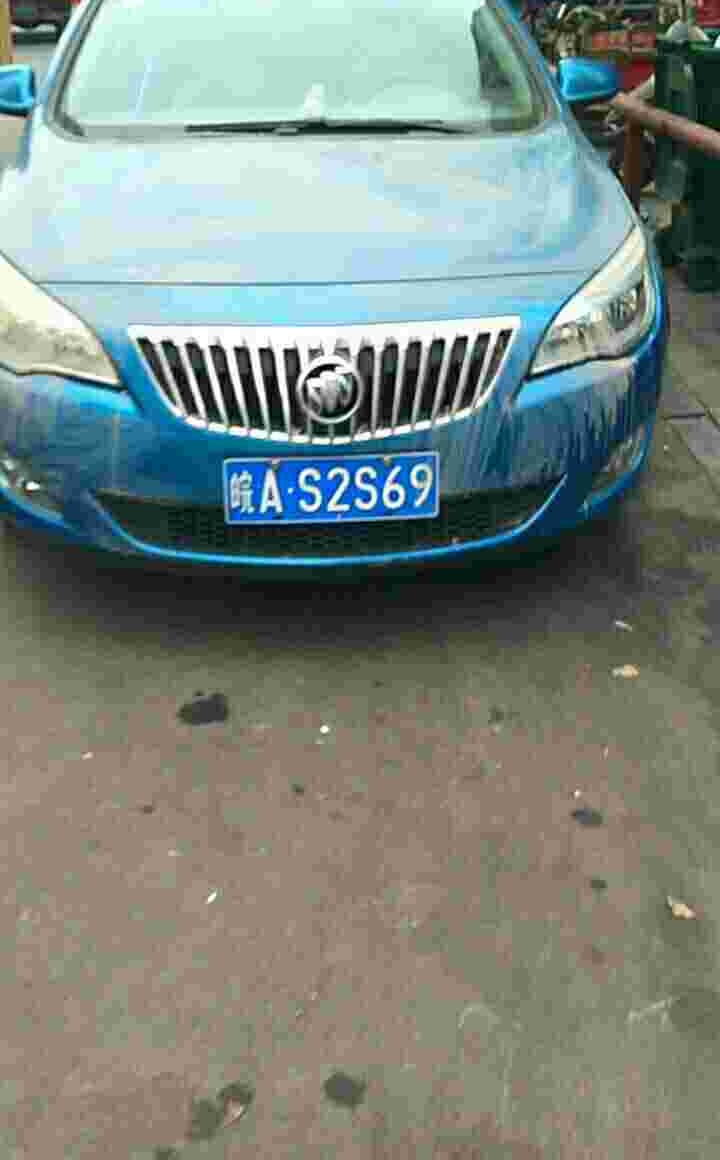car: (221, 459, 449, 527)
